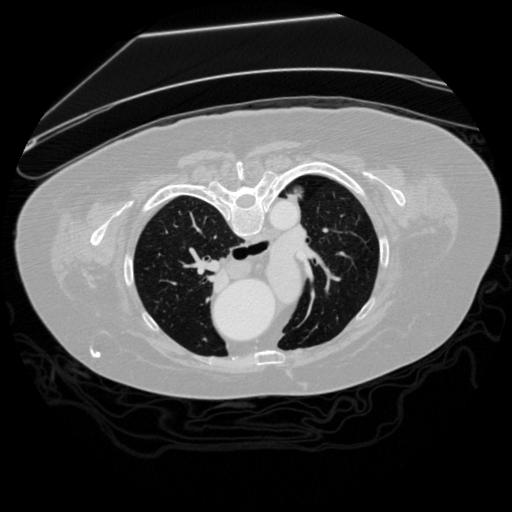nodule: (288, 186, 306, 204)
